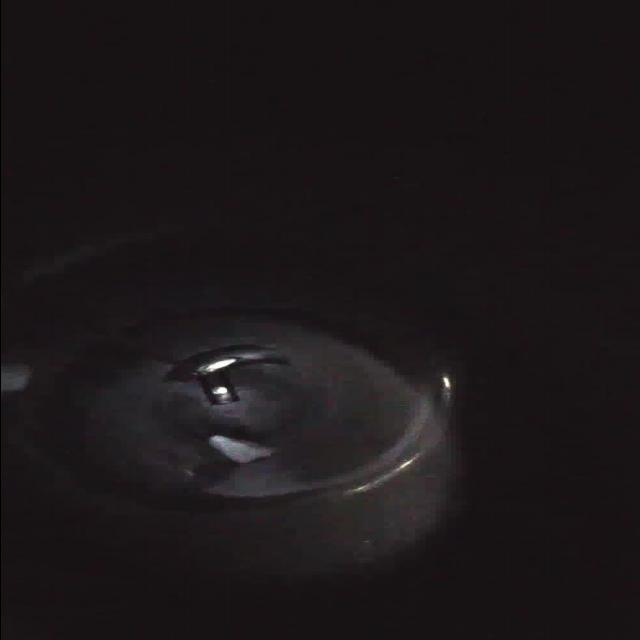impurity: (202, 429, 282, 467)
